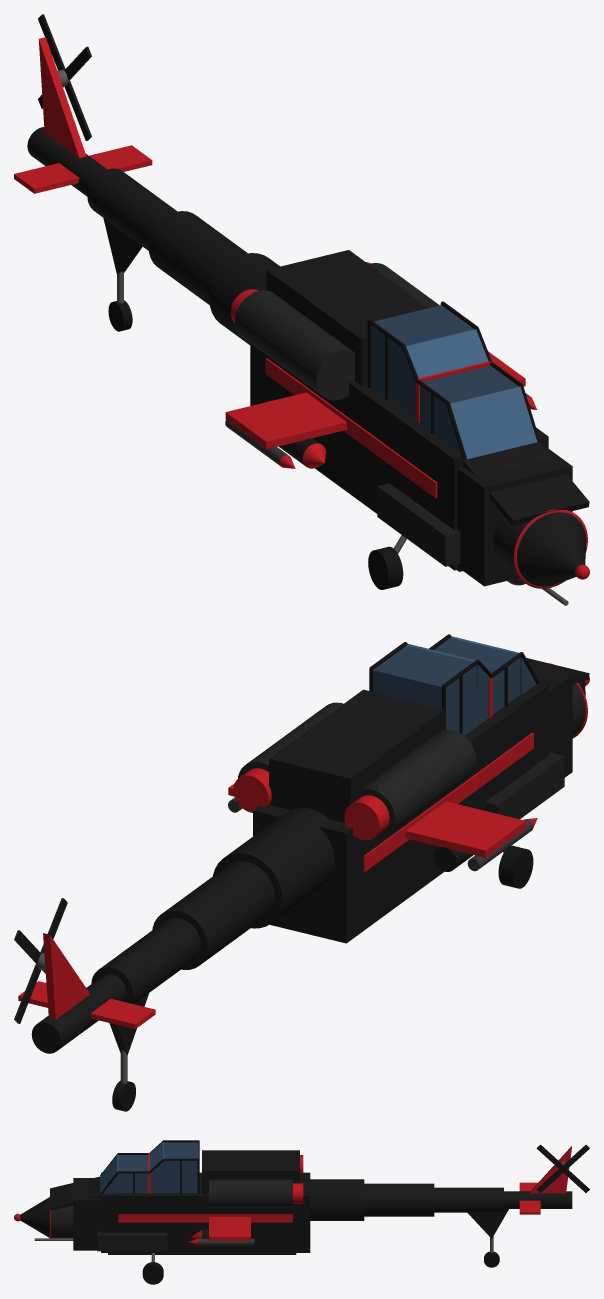
File: attack_heli.glb
3 renders of one model, top to bottom at view 1: azimuth 30°, elevation 25°; view 2: azimuth 150°, elevation 25°; view 3: azimuth 270°, elevation 25°, orthographic. The views are drawn at different scales.
Visible parts, largest first — view 1: fuselage, engine_fairing, nacelle_l, nose_base, boom_2, nose_top, stub_wing, windshield_front, canopy_rear, nose_cone, boom_3, cheek_l (+11 smaller); view 2: fuselage, engine_fairing, boom_1, boom_2, nacelle_l, canopy_rear, boom_3, stub_wing, boom_4, cheek_l, stripe_l, nose_base (+9 smaller); view 3: fuselage, engine_fairing, nacelle_r, boom_2, boom_1, boom_3, canopy_rear, nose_base, cheek_r, stripe_r, canopy_front, boom_4 (+17 smaller).
Part boxes in pixels (x1,y1,x2,y2): fuselage: (250,343,548,570); engine_fairing: (266,250,428,385); nacelle_l: (235,290,354,400); nose_base: (457,446,572,586); boom_2: (148,211,247,305); nose_top: (463,442,589,525); stub_wing: (225,351,525,449); windshield_front: (450,386,537,459); canopy_rear: (371,305,474,411); nose_cone: (517,512,586,586); boom_3: (87,168,177,250); cheek_l: (377,483,460,566); fuselage: (253,683,548,943); engine_fairing: (269,689,445,822); boom_1: (213,807,334,928); boom_2: (152,861,274,969); nacelle_l: (357,729,476,838); canopy_rear: (373,645,476,735); boom_3: (91,917,200,1003); stub_wing: (228,783,526,857); boom_4: (31,974,126,1053); cheek_l: (485,752,564,819); stripe_l: (363,732,533,871); nose_base: (529,663,572,777); fuselage: (101,1172,310,1252); engine_fairing: (202,1150,299,1194); nacelle_r: (209,1179,292,1207); boom_2: (364,1183,434,1216); boom_1: (300,1179,364,1220); boom_3: (434,1187,503,1212); canopy_rear: (163,1142,198,1193); nose_base: (73,1178,100,1250); cheek_r: (97,1231,167,1251); stripe_r: (118,1214,292,1222); canopy_front: (118,1155,148,1193); boom_4: (504,1191,572,1208).
Size of the model in its own units: 4.4 by 3.96 by 16.5.
